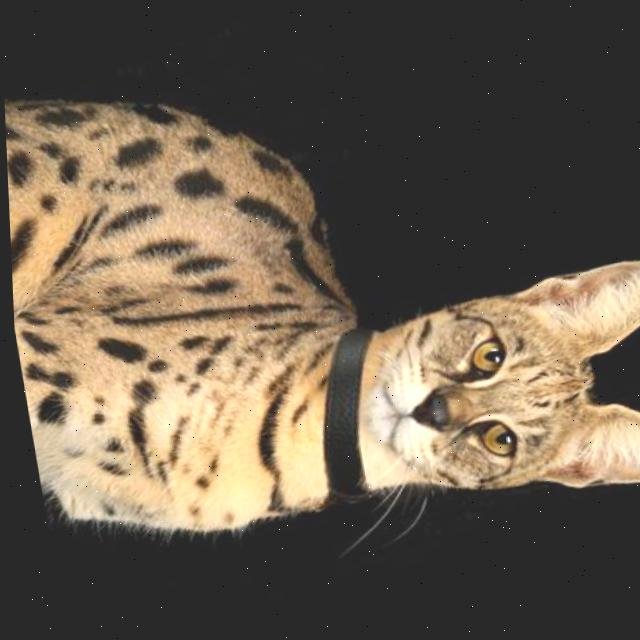Savannah: (0, 0, 640, 602)
